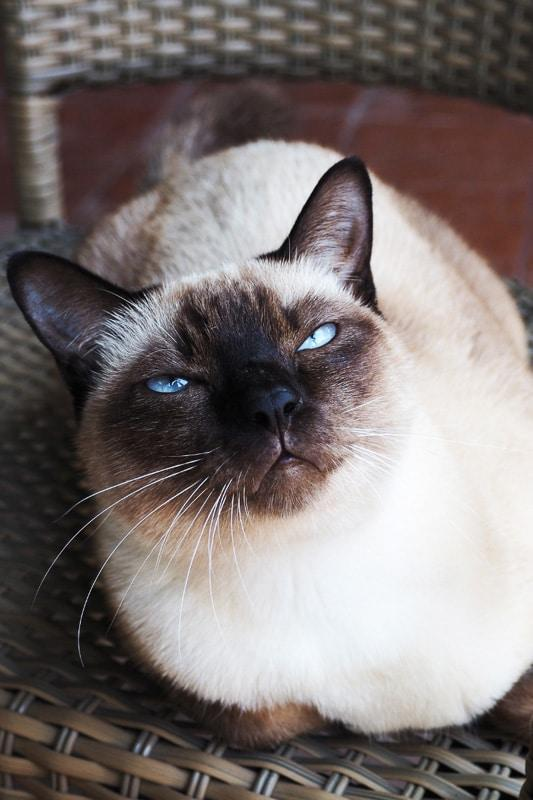siamese: (5, 149, 401, 542)
